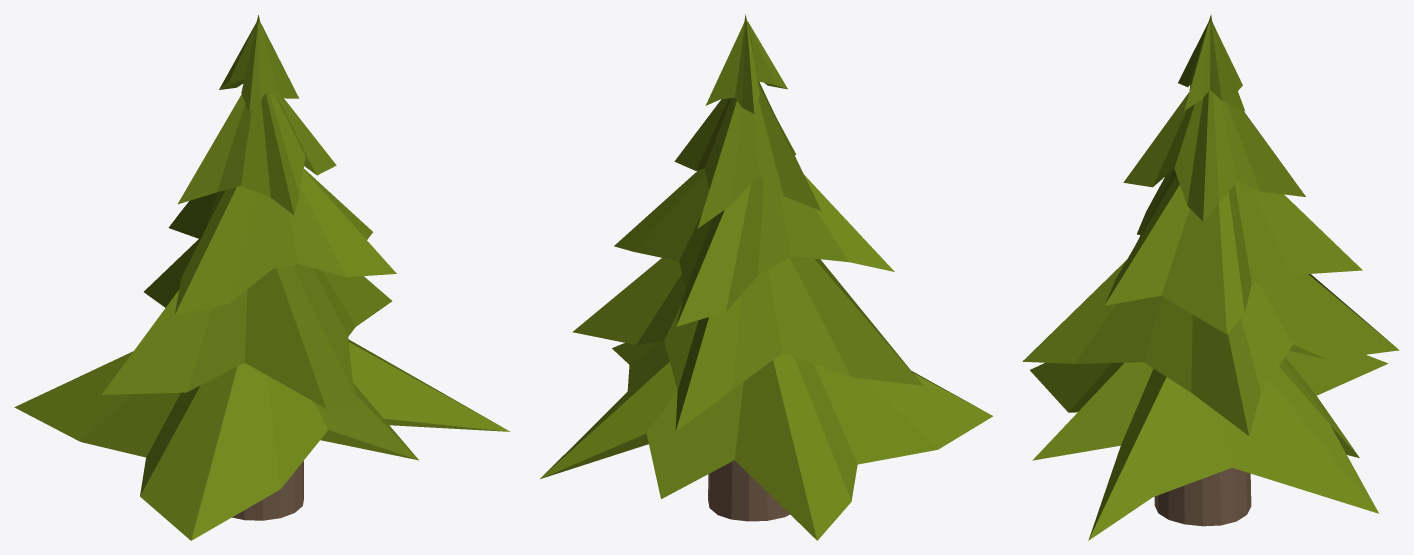
File: Kuusi3Rangeriin.fbx
3 views of the same model, side by side, from view 1: azimuth 30°, elevation 25°; view 2: azimuth 150°, elevation 25°; view 3: azimuth 270°, elevation 25° (orthographic). The views are drawn at different scales.
Visible parts, largest first — view 1: Cylinder; view 2: Cylinder; view 3: Cylinder.
Boxes of the visible parts, <box> form: Cylinder: <box>14,15,510,540</box>; Cylinder: <box>540,14,992,540</box>; Cylinder: <box>1022,14,1399,540</box>.
Bounding box in the file's own units: 872 × 1125 × 776.
